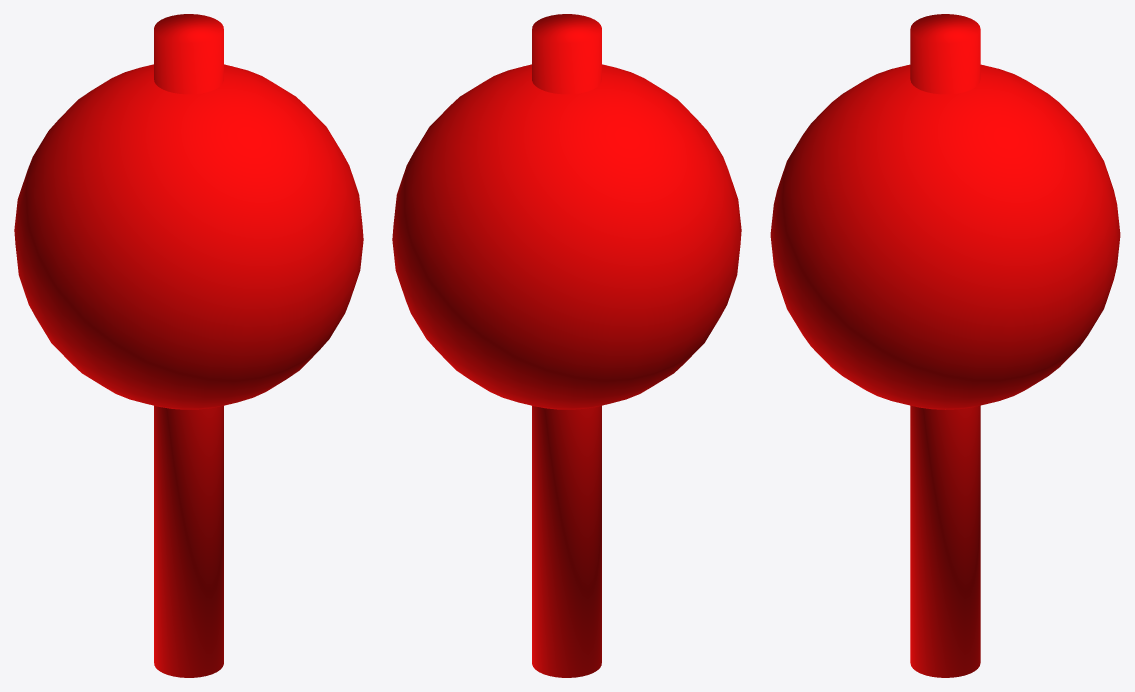
File: pin_final.gltf
The picture shows the model from 3 angles, left to right: view 1: azimuth 30°, elevation 25°; view 2: azimuth 150°, elevation 25°; view 3: azimuth 270°, elevation 25°; orthographic projection.
Parts seen in each view (by area): view 1: Sphere, Cylinder; view 2: Sphere, Cylinder; view 3: Sphere, Cylinder.
Boxes of the visible parts, bbox=[...] form: Sphere: bbox=[14, 64, 363, 409]; Cylinder: bbox=[154, 14, 223, 677]; Sphere: bbox=[392, 64, 741, 409]; Cylinder: bbox=[532, 14, 601, 677]; Sphere: bbox=[770, 64, 1120, 409]; Cylinder: bbox=[910, 14, 980, 677].
Bounding box in the file's own units: 0.01 × 0.02 × 0.01.
